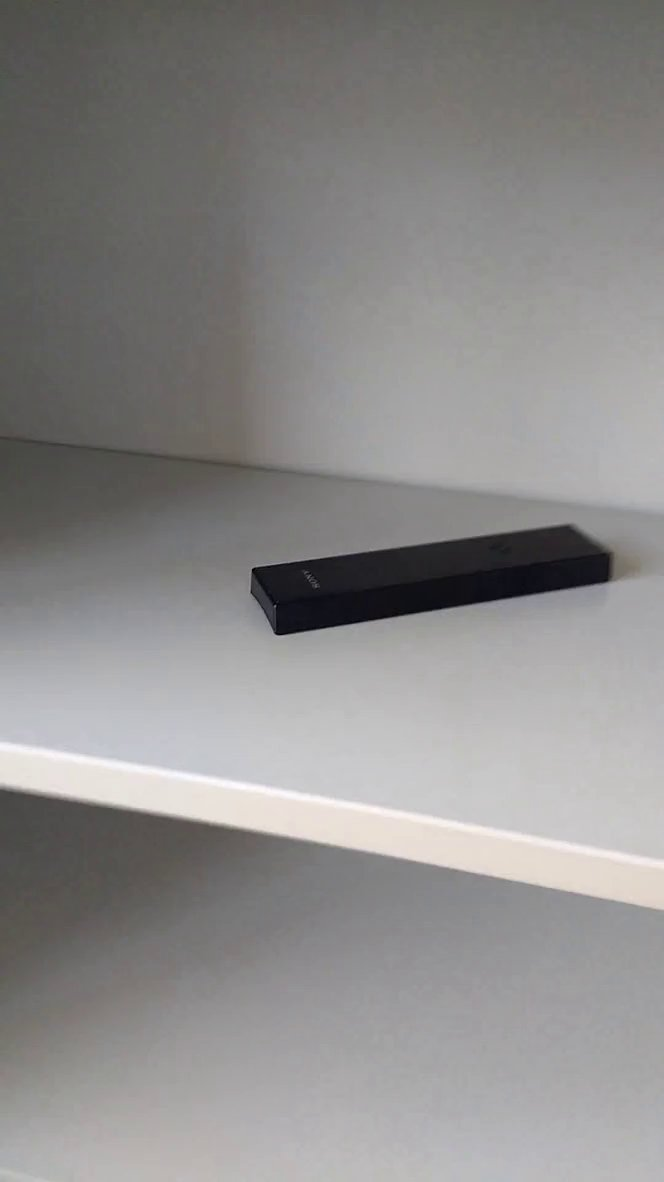remote: (240, 505, 621, 659)
